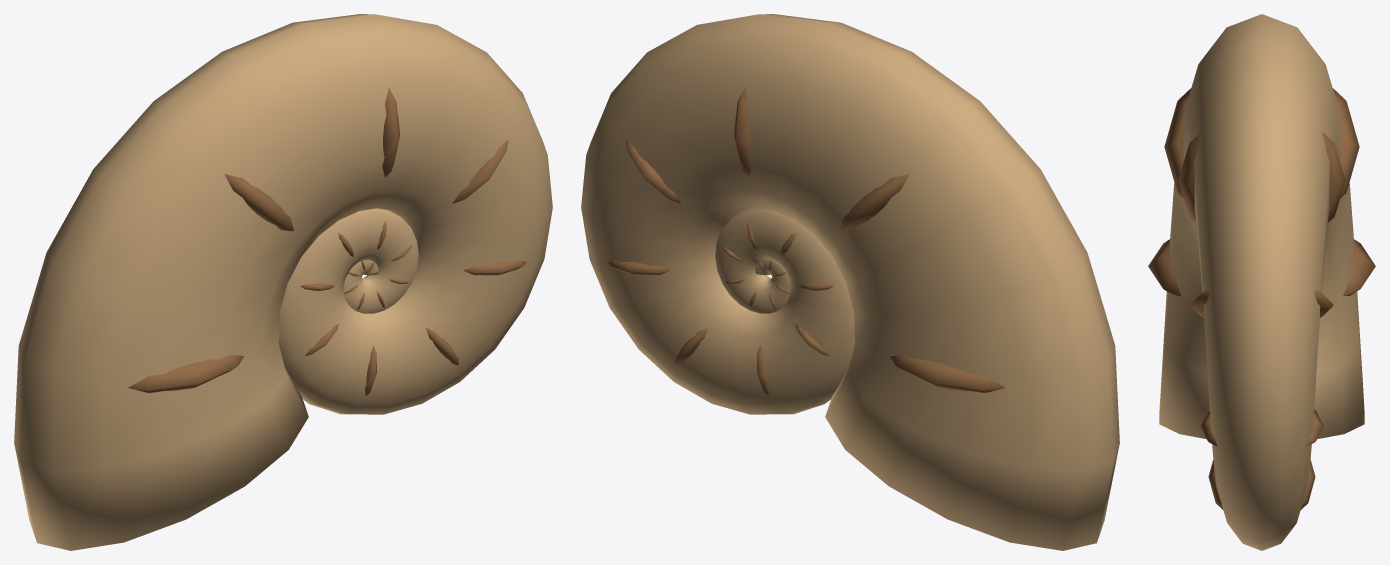
Rendered from fossil-ammonite.glb.
The picture shows the model from 3 angles, left to right: view 1: azimuth 30°, elevation 25°; view 2: azimuth 150°, elevation 25°; view 3: azimuth 270°, elevation 25°; orthographic projection. The views are drawn at different scales.
Visible parts, largest first — view 1: fossil; view 2: fossil; view 3: fossil.
Part boxes in pixels (x1=…): fossil: x1=14, y1=14, x2=552, y2=550; fossil: x1=581, y1=14, x2=1119, y2=550; fossil: x1=1148, y1=14, x2=1375, y2=550.
Size of the model in its own units: 0.2322 by 0.1907 by 0.0788.
